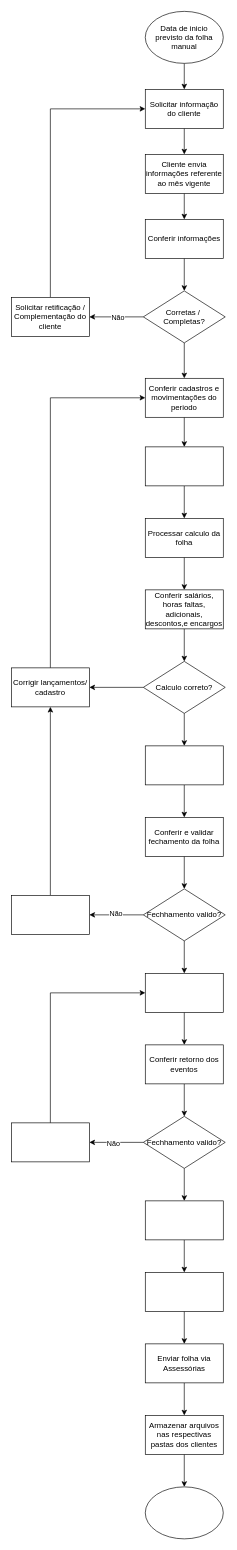
This 237x1550 diagram has some shape labels left out. The centre of each missing label's shape, as x and y in pixels:
Corrigir erros: the point at 50,1142
Emitir FGTS digital: the point at 184,1220
Fim: the point at 184,1512
Gerar evento do e-social (manualmente): the point at 184,992
Gerar recibos: the point at 184,765
Lançar informações no sistema: the point at 184,466
Revisar inconsistências: the point at 50,914
Transmitir / conferir DCTFWeb: the point at 184,1291
